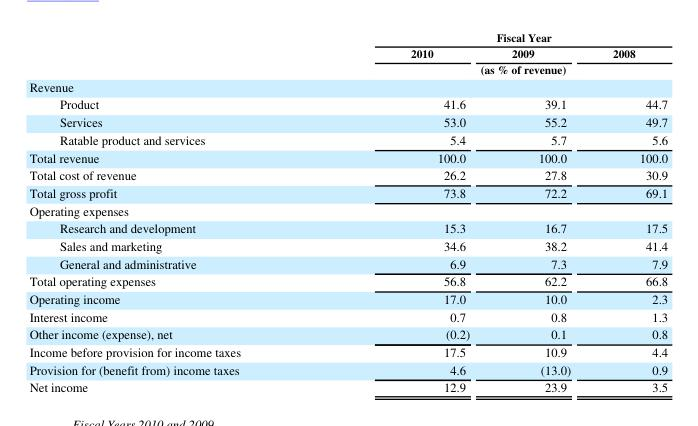table: (28, 28, 667, 394)
table column: (28, 28, 325, 394), (325, 28, 490, 394), (490, 28, 591, 394), (591, 28, 667, 394)
table column header: (28, 28, 667, 77)
table projected row header: (28, 200, 667, 218), (28, 77, 667, 94)
table row: (28, 94, 667, 112), (28, 112, 667, 130), (28, 147, 667, 165), (28, 165, 667, 183), (28, 200, 667, 218), (28, 218, 667, 236), (28, 253, 667, 271), (28, 271, 667, 289), (28, 306, 667, 324), (28, 324, 667, 342), (28, 359, 667, 377), (28, 44, 667, 61), (28, 77, 667, 94), (28, 130, 667, 147), (28, 183, 667, 200), (28, 236, 667, 253), (28, 289, 667, 306), (28, 342, 667, 359), (28, 377, 667, 394), (28, 28, 667, 44), (28, 61, 667, 77)
table spanning cell: (325, 28, 667, 44), (325, 61, 667, 77)
